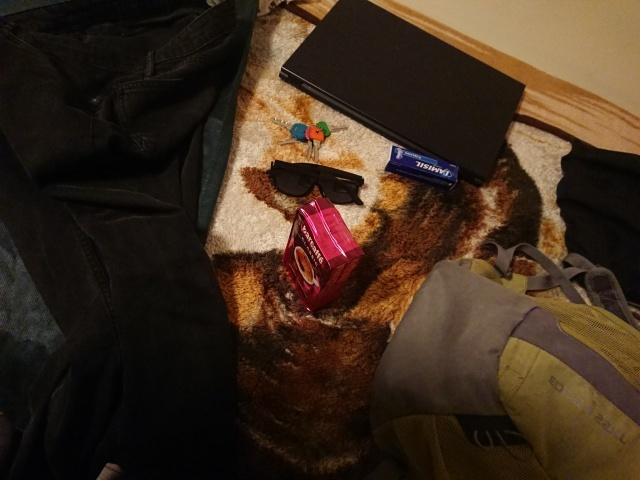Barcaffe Classic Original 225g: (279, 195, 366, 314)
